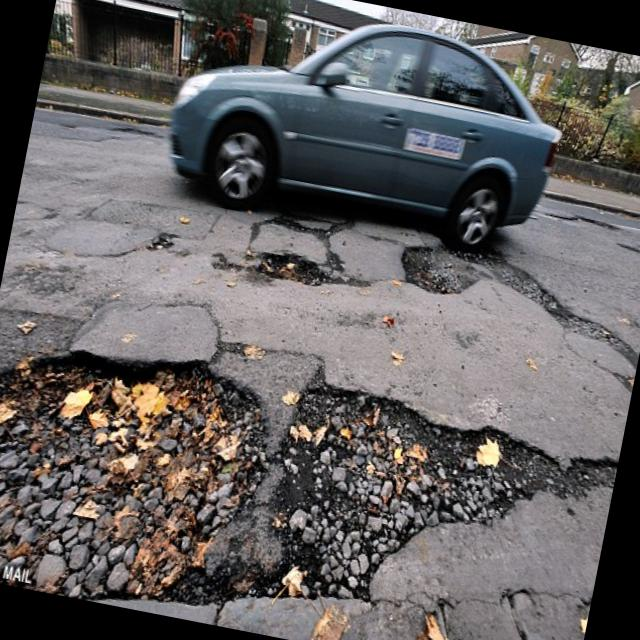Potholes: (0, 302, 609, 640), (374, 188, 640, 383), (218, 232, 367, 310)
